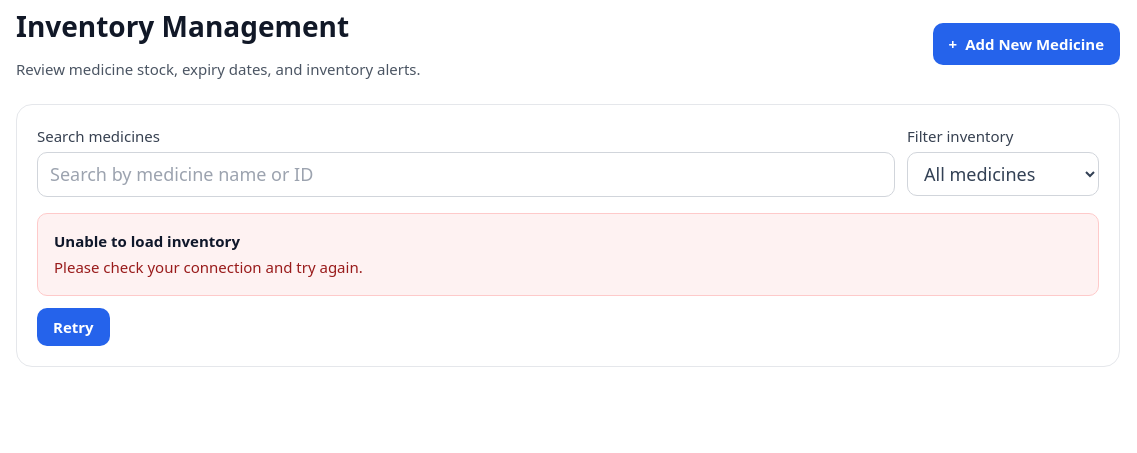
Test: InventoryManagementPage › shows an error and retries when inventory loading fails
This screenshot has width=1137, height=453.
expect the heading "Unable to load inventory" is shown: met, box x1=54 y1=231 x2=240 y2=251
Click the button "Retry": (73, 327) x1=37 y1=308 x2=110 y2=346
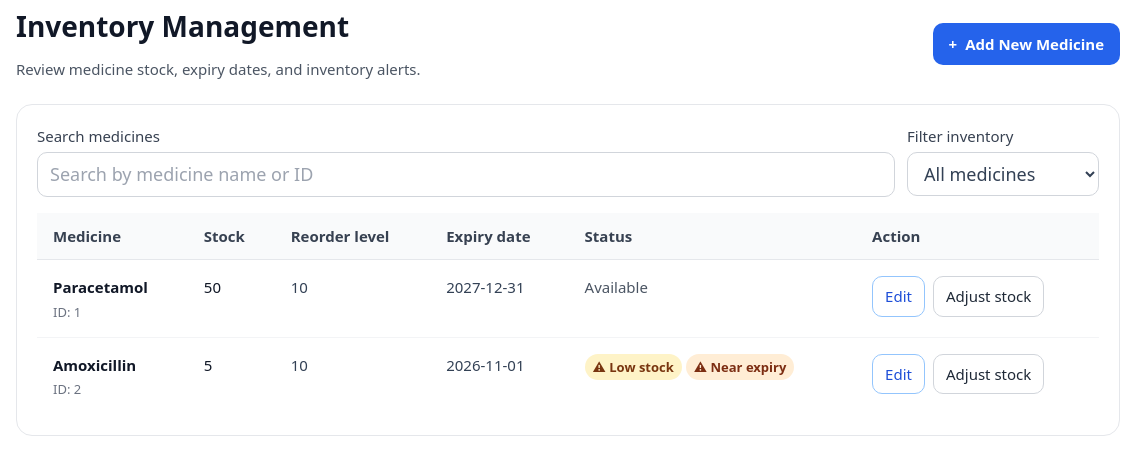
expect the text "Paracetamol" is shown: met, box x1=53 y1=277 x2=148 y2=297
